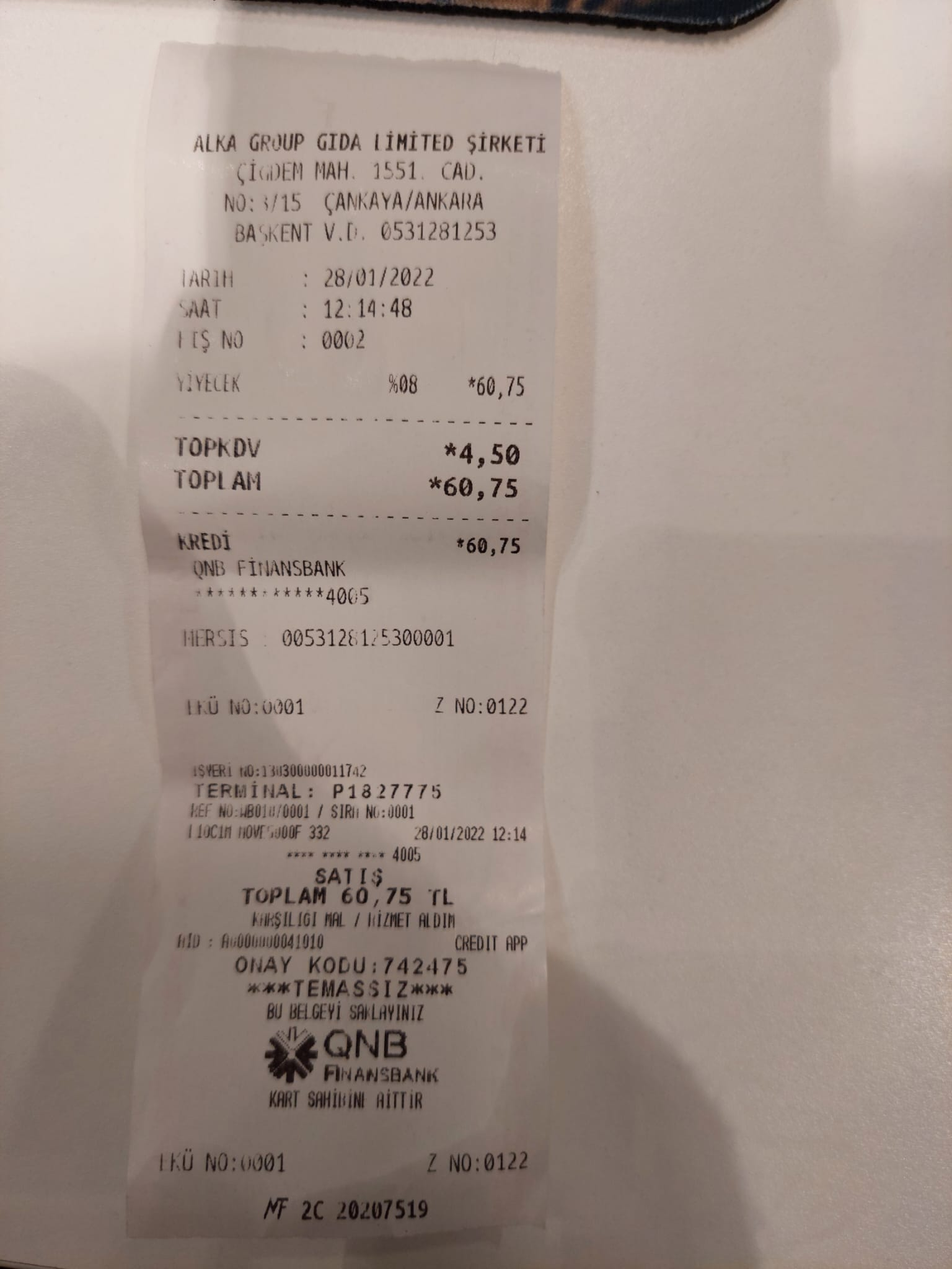date: (441, 468, 531, 507)
price: (320, 264, 439, 293)
workplace: (184, 112, 553, 214)
